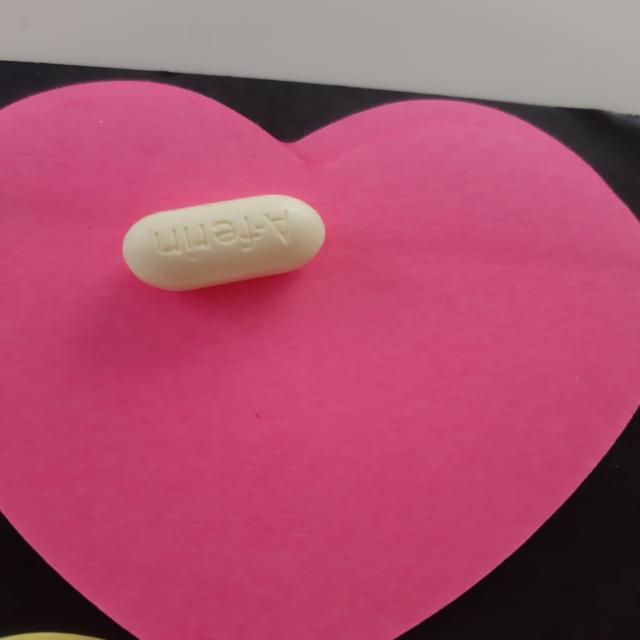pills: (113, 189, 335, 297)
